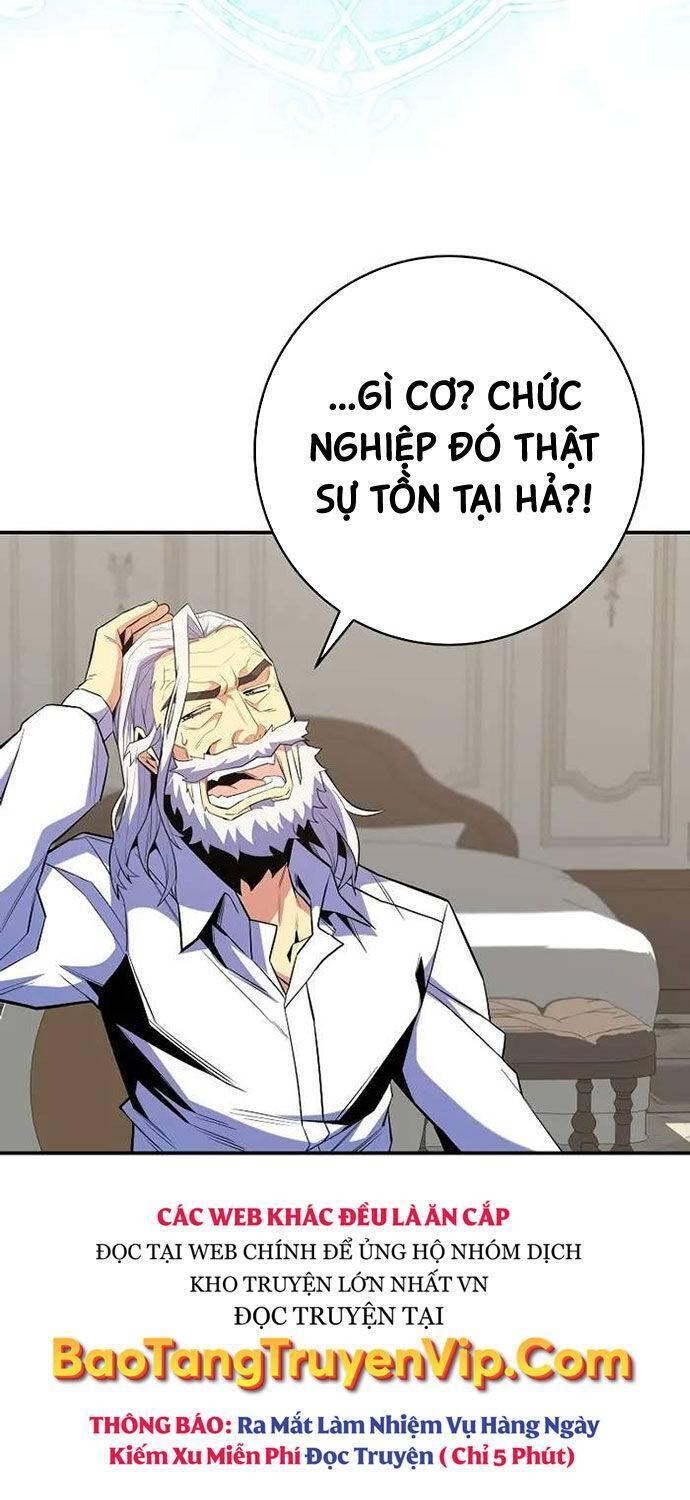quangcao: (42, 1196, 644, 1484)
